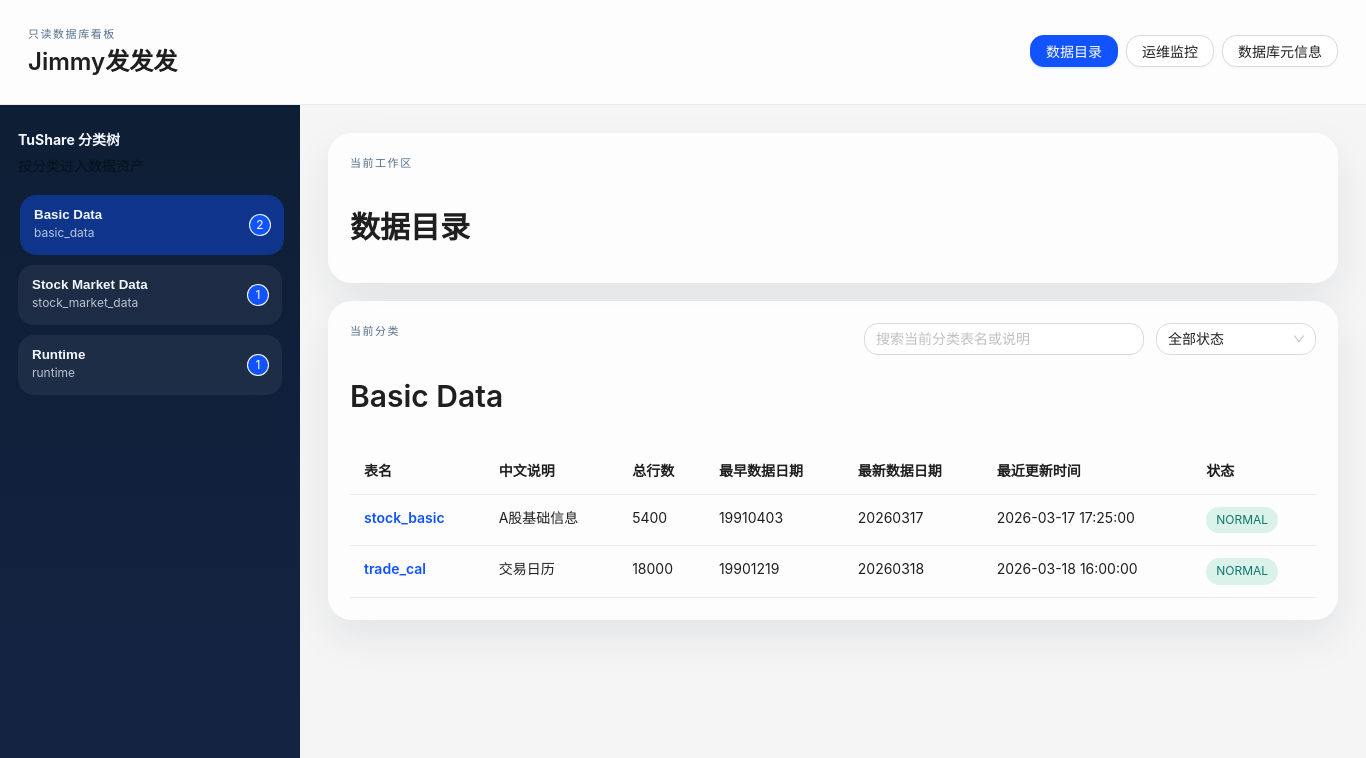
Test: data_explorer app shell › defaults the monitor page to overview and supports drilling into datasets, jobs, and runs
What coordinates should you click on to do the following:
click the button "运维监控"
I would click on:
 (1170, 51)
Its box is [1126,35,1214,67].
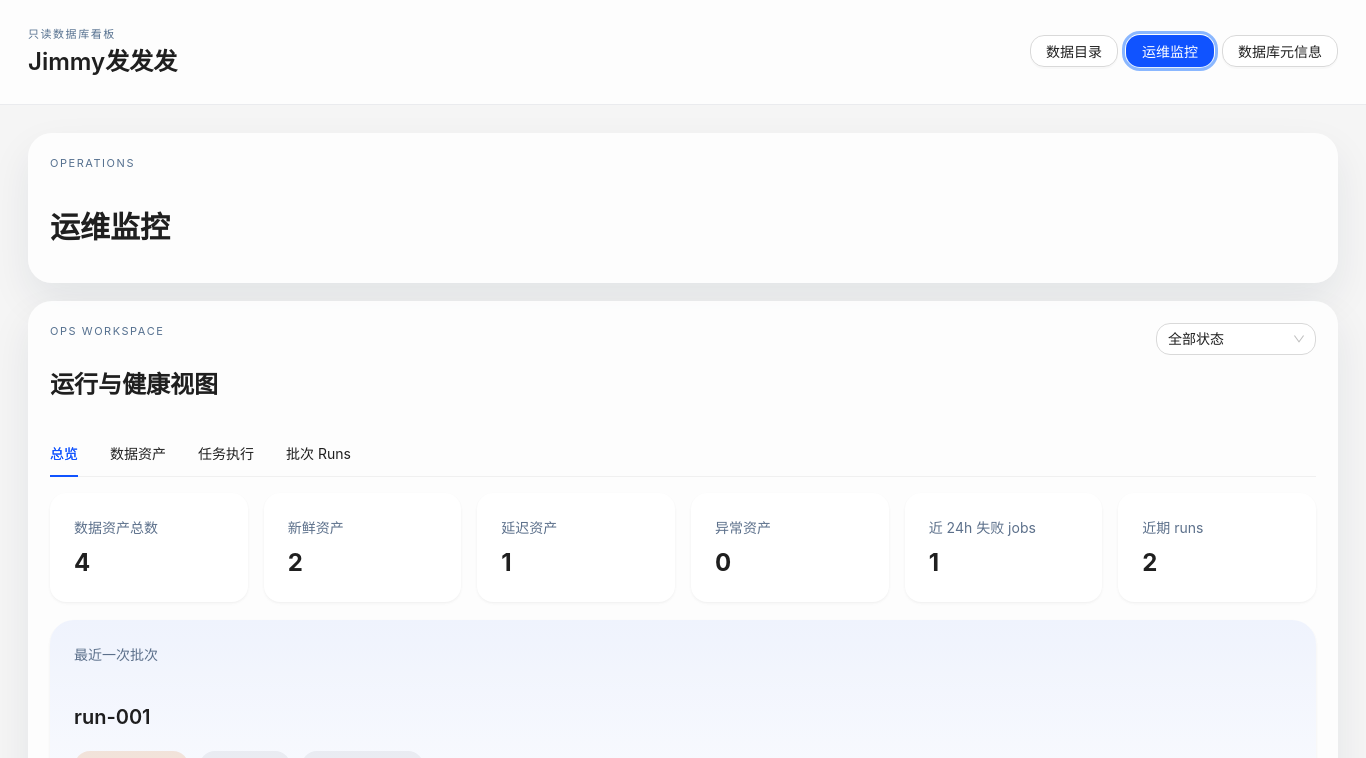
Expected: the heading "run-001" is shown, [74,705,151,729]
What coordinates should you click on to do the following:
click the tab "数据资产"
I would click on:
 (138, 454)
Its box is [110,443,166,465].
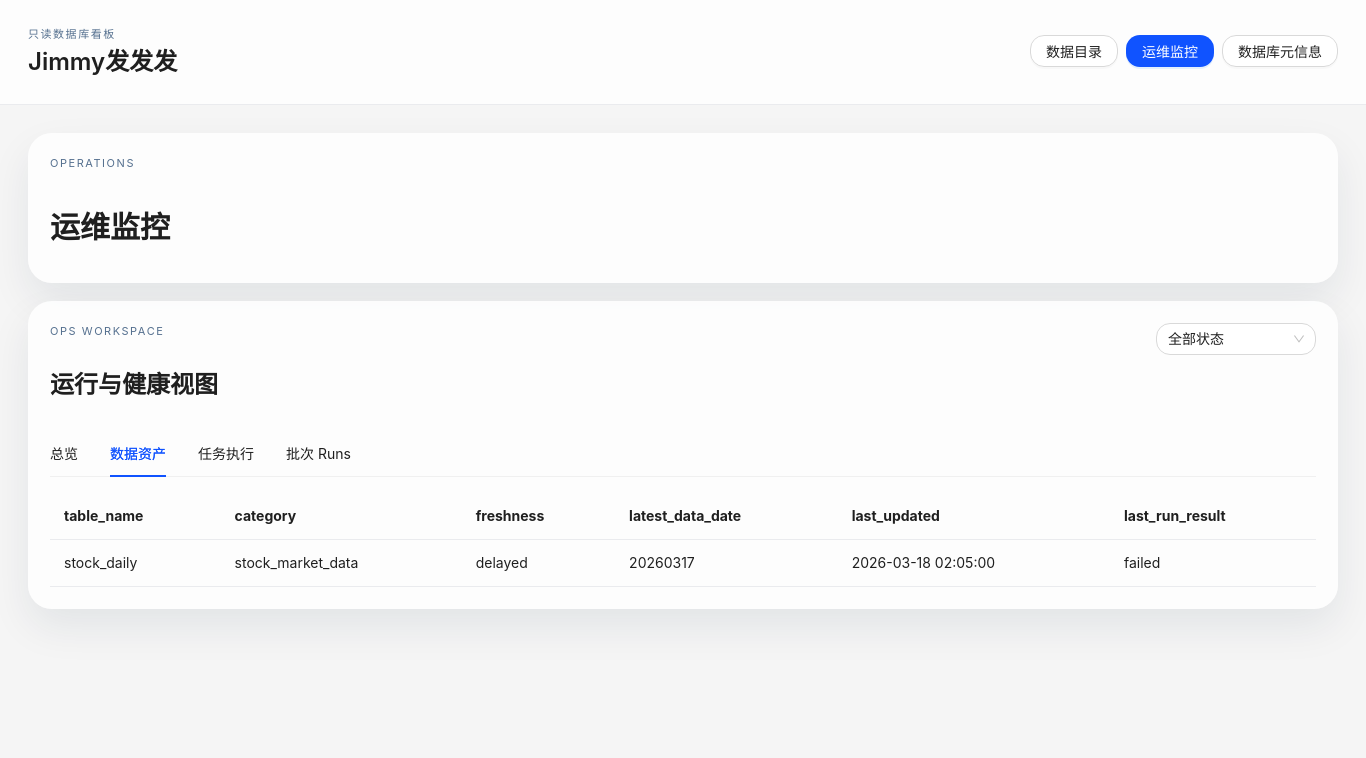
Expected: the cell "2026-03-18 02:05:00" is shown, [838,540,1110,587]
Expected: the cell "stock_daily" is shown, [50,540,221,587]
What coordinates should you click on to do the following:
click the tab "任务执行"
I would click on:
 (226, 454)
Its box is [198,443,254,465].
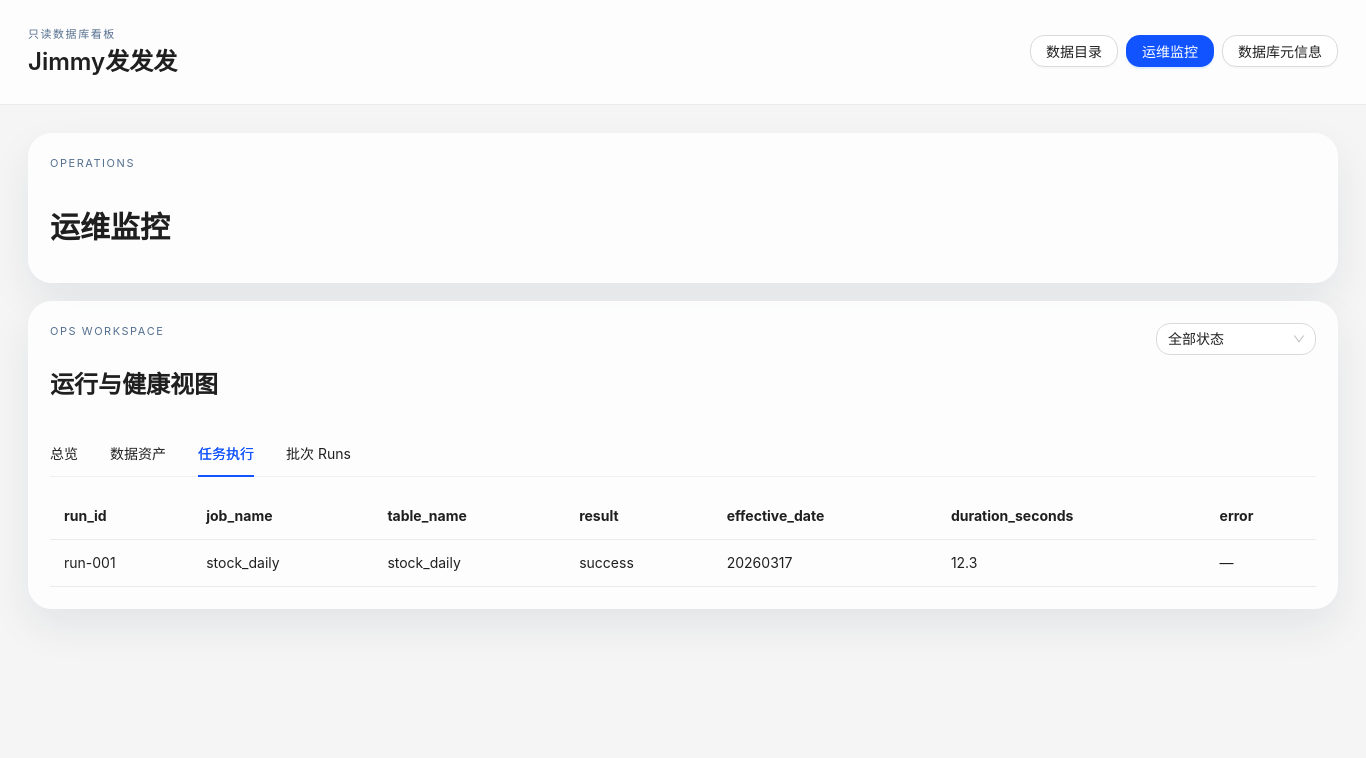
Expected: the 1st cell "stock_daily" is shown, [192,540,373,587]
What coordinates should you click on to do the following:
click the tab "批次 Runs"
I would click on:
 (318, 454)
Its box is [286,443,351,465].
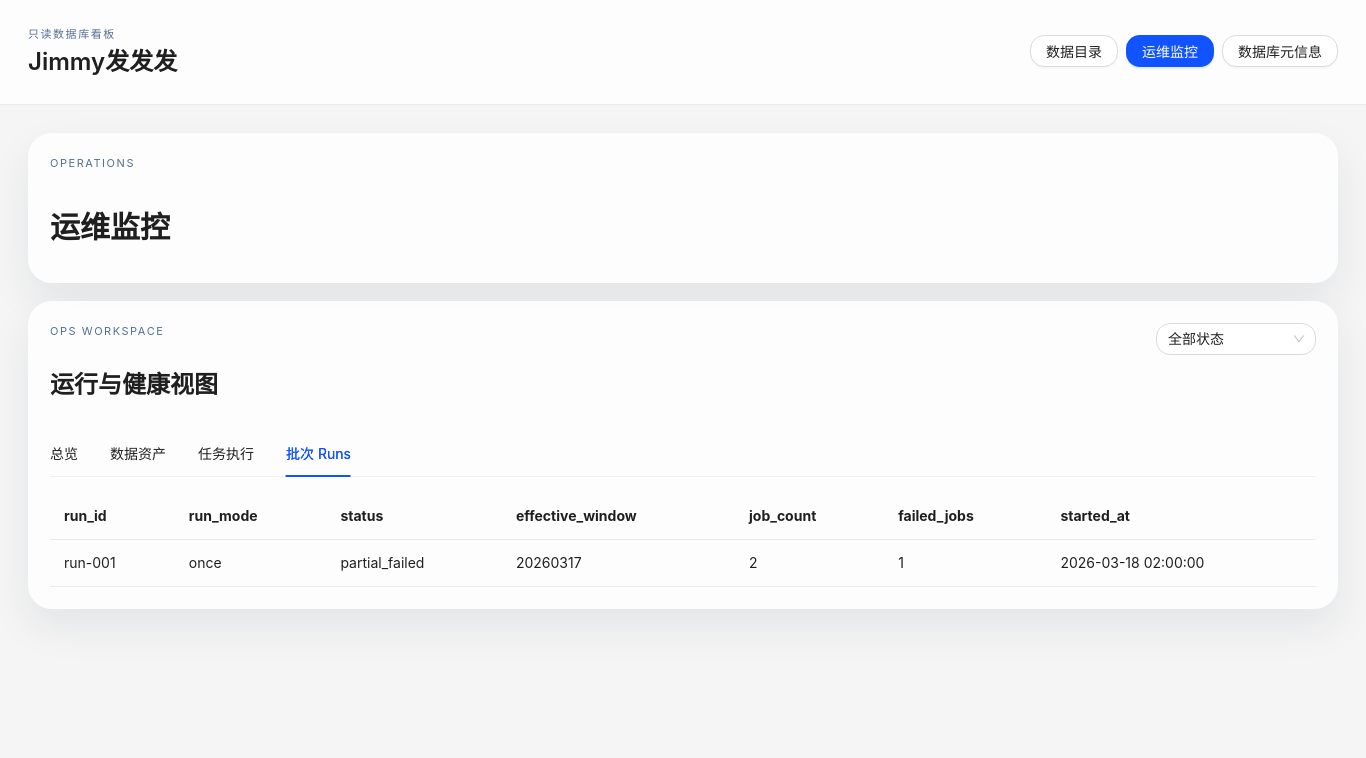
Expected: the cell "partial_failed" is shown, [326,540,502,587]
Expected: the cell "2026-03-18 02:00:00" is shown, [1046,540,1316,587]
What coordinates should you click on to do the following:
click the tab "数据资产"
I would click on:
 (138, 454)
Its box is [110,443,166,465].
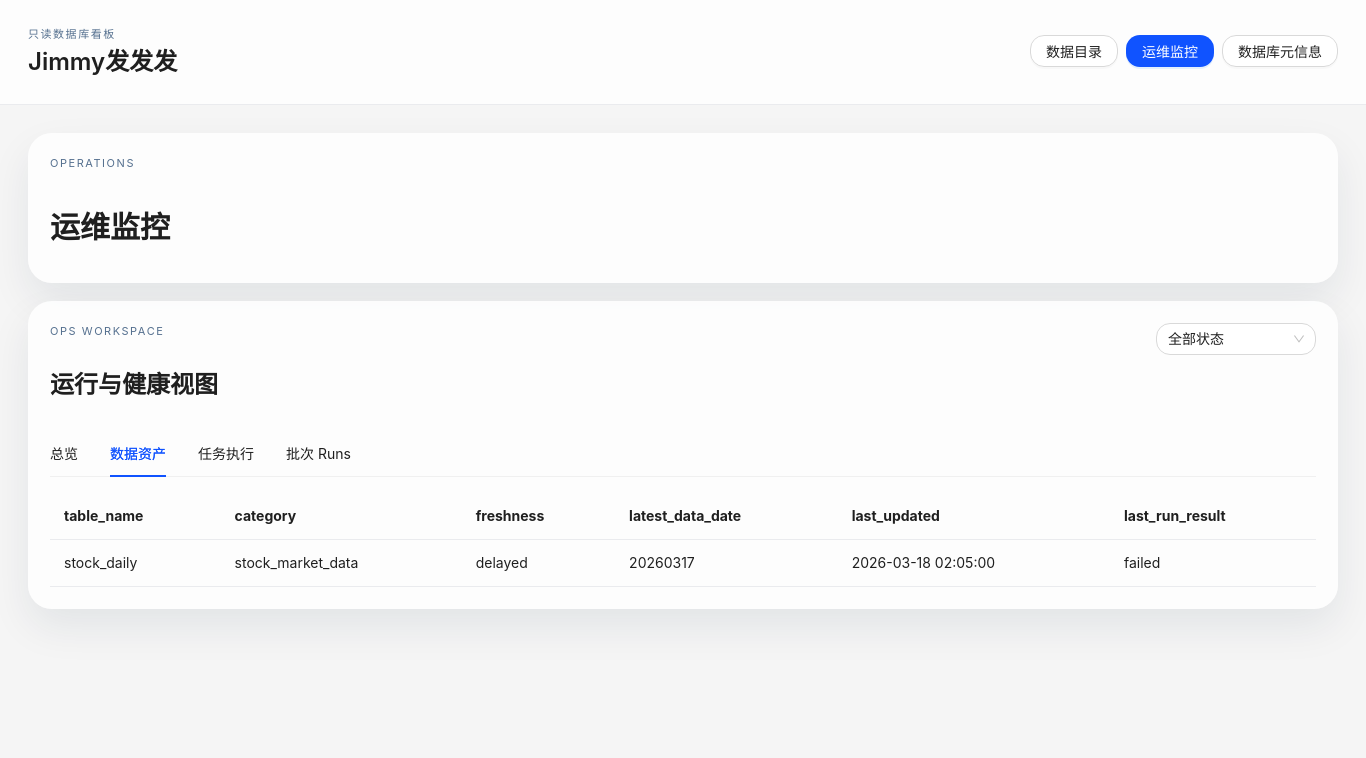
What coordinates should you click on to do the following:
click the cell "stock_daily"
I would click on:
 (135, 563)
Its box is [50,540,221,587].
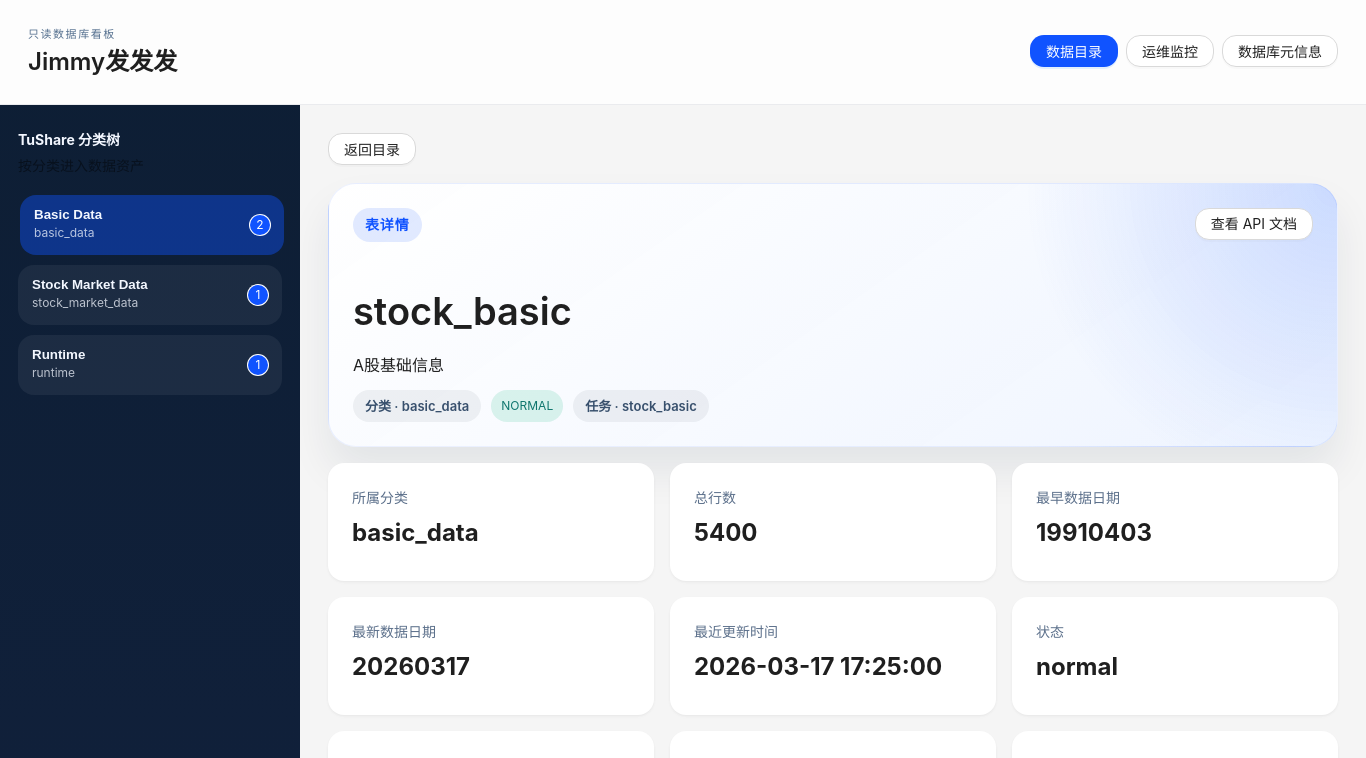
Expected: the heading "stock_basic" is shown, [353,288,572,334]
